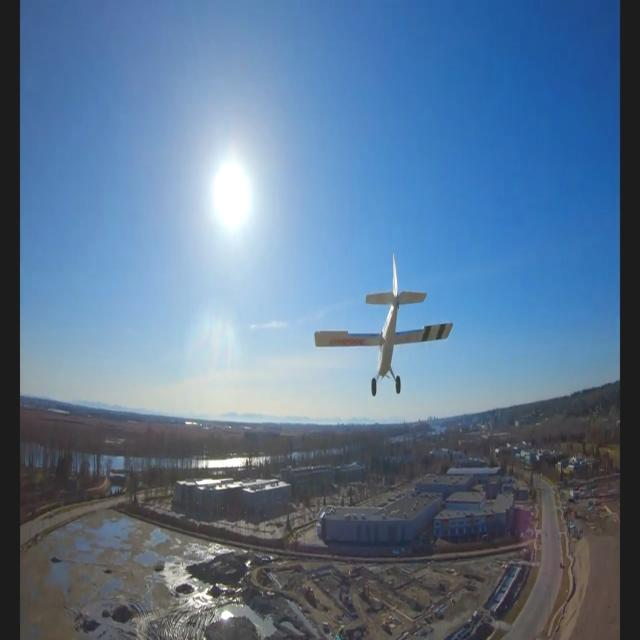iha: (305, 239, 463, 412)
